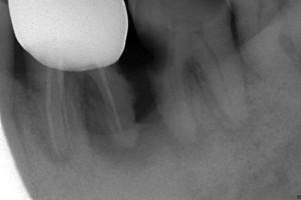Dental Caries: (80, 73, 213, 172), (185, 58, 259, 145)
